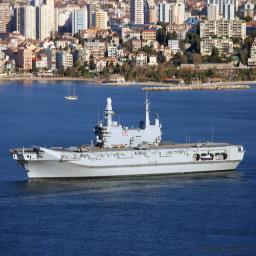Portanaves: (11, 90, 247, 184)
